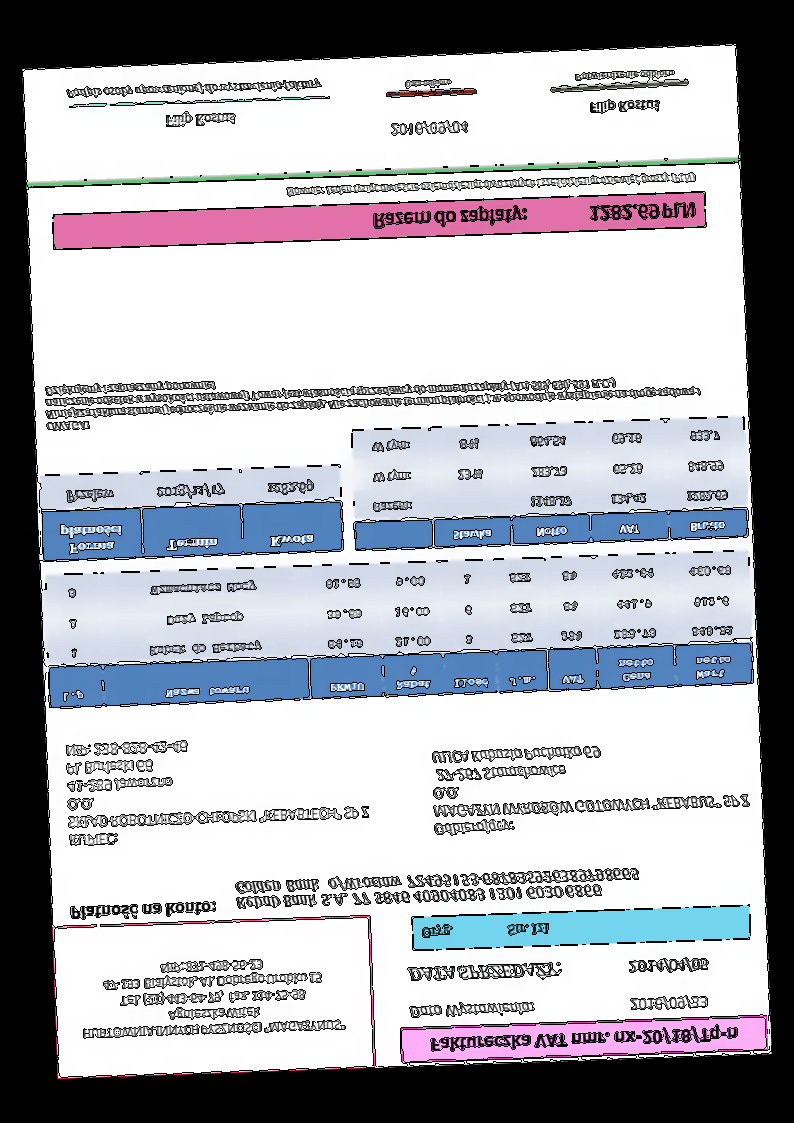Table: (43, 547, 755, 712), (349, 413, 750, 553), (38, 463, 344, 563)
TextBox: (41, 360, 704, 437), (62, 729, 373, 852), (429, 735, 755, 839), (75, 952, 348, 1042), (232, 863, 643, 912), (281, 170, 696, 203), (370, 197, 699, 236), (425, 1023, 740, 1054), (63, 75, 327, 101), (405, 958, 563, 988), (64, 897, 218, 924), (416, 918, 552, 945), (404, 998, 535, 1025), (388, 117, 472, 143), (624, 954, 711, 979), (573, 67, 676, 85), (585, 97, 666, 119), (161, 109, 237, 132), (627, 993, 710, 1013), (399, 75, 455, 93)
